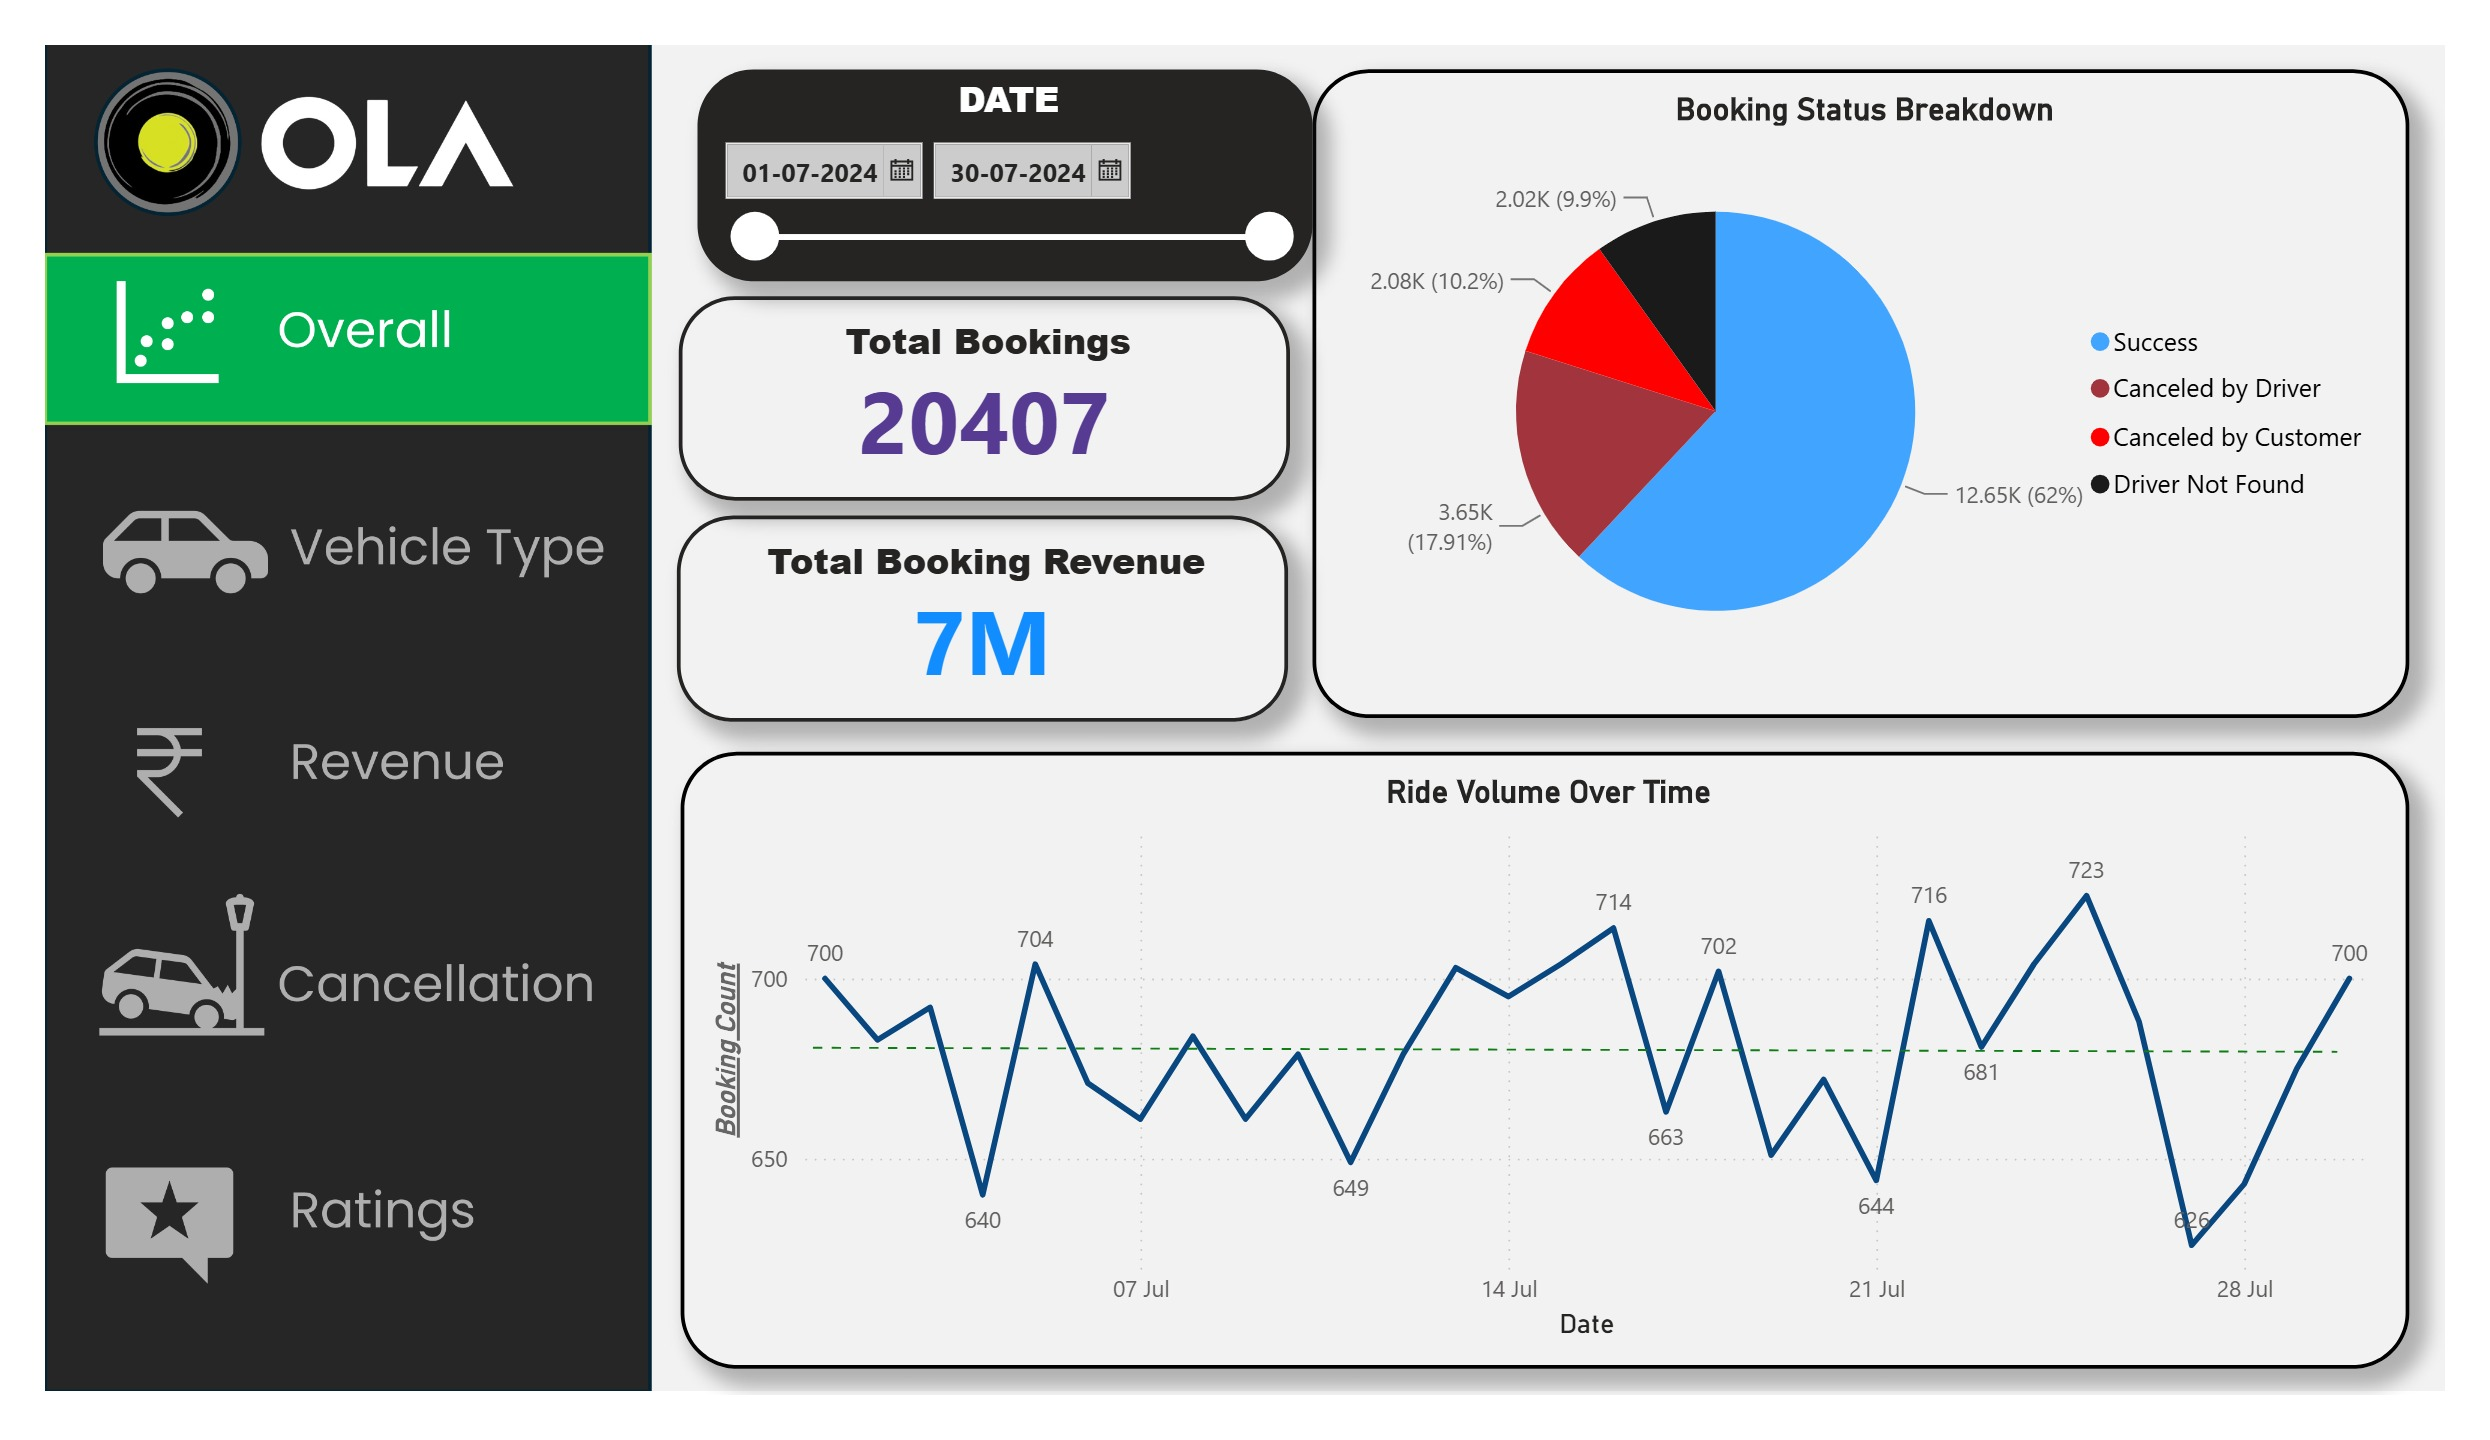

The dashboard page shown, as its layout file describes it:
{"tool":"powerbi","page":{"name":"Overall","canvas":[1280,720],"ordinal":0},"visuals":[{"type":"actionButton","box":[0,225.9,324.5,89.1],"z":0},{"type":"actionButton","box":[0,337.2,324.5,89.1],"z":1000},{"type":"actionButton","box":[0,459.7,324.5,89.1],"z":2000},{"type":"actionButton","box":[0,575.8,324.5,89.1],"z":3000},{"type":"lineChart","title":"Ride Volume Over Time","fields":{"Y":["CountNonNull(Bookings (2).Booking_ID)"],"Category":["Bookings (2).Date"]},"box":[338.8,377,922.6,329.3],"z":4000},{"type":"pieChart","title":"Booking Status Breakdown","fields":{"Category":["Bookings (2).Booking_Status"],"Y":["CountNonNull(Bookings (2).Booking_Status)"]},"box":[676,12.7,585.3,346.8],"z":5000},{"type":"slicer","title":"DATE","fields":{"Values":["Bookings (2).Date"]},"box":[348.3,12.7,327.7,112.9],"z":6000},{"type":"cardVisual","title":"Total Bookings","fields":{"Data":["Count(Bookings (2).Booking_ID)"]},"box":[338.2,133.7,326.1,109.4],"z":7000},{"type":"cardVisual","title":"Total Booking Revenue","fields":{"Data":["Sum(Bookings (2).Booking_Value)"]},"box":[337.2,251.3,326.1,109.8],"z":8000}]}

Visuals, with their boxes in screenshot pixels (x1, y1, x2, y2), scaled from the page's 1280x720 canvas onto the 2490x1440 screenshot:
actionButton: detection(0, 452, 631, 630)
actionButton: detection(0, 674, 631, 853)
actionButton: detection(0, 919, 631, 1098)
actionButton: detection(0, 1152, 631, 1330)
"Ride Volume Over Time" lineChart: detection(659, 754, 2454, 1413)
"Booking Status Breakdown" pieChart: detection(1315, 25, 2454, 719)
"DATE" slicer: detection(678, 25, 1315, 251)
"Total Bookings" cardVisual: detection(658, 267, 1292, 486)
"Total Booking Revenue" cardVisual: detection(656, 503, 1290, 722)
